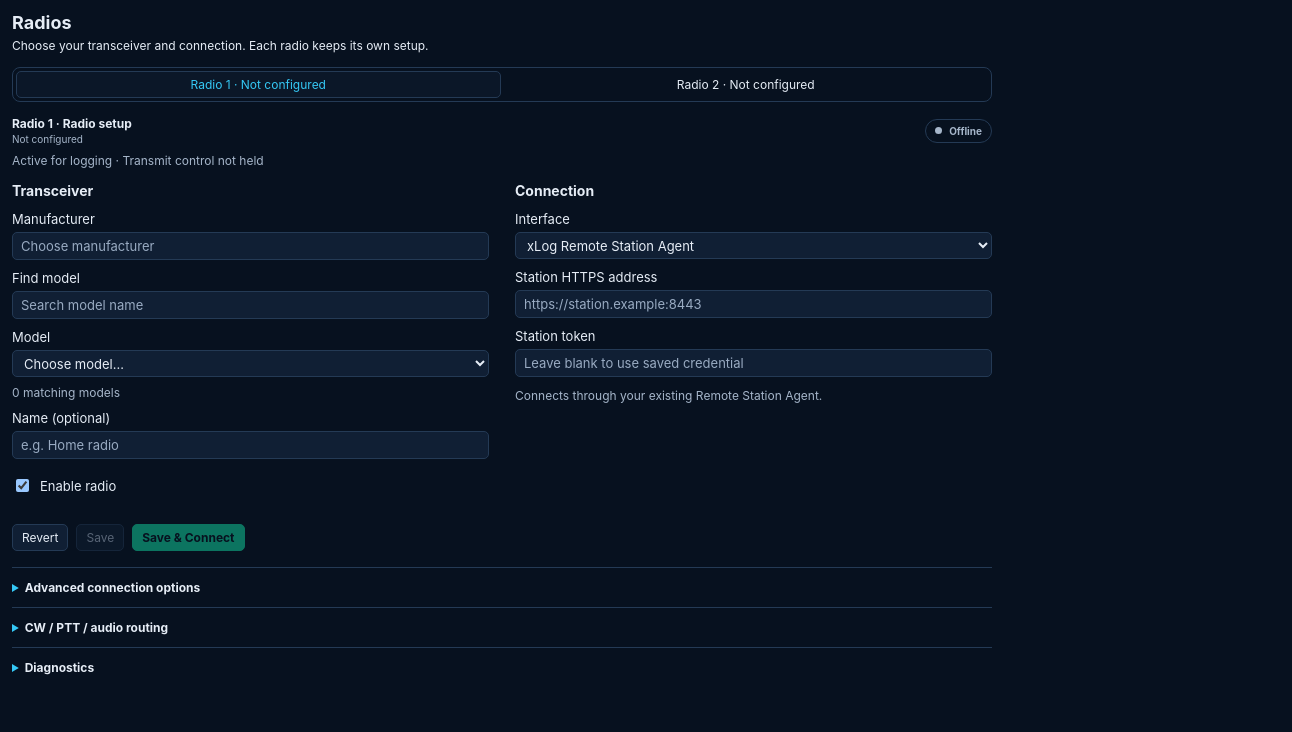
Test: updates delayed native connection observations without focus, lifecycle writes or losing typed text
Type "Still typing" into the field named "Radio nickname" at (250, 445), box [12,431,489,459]
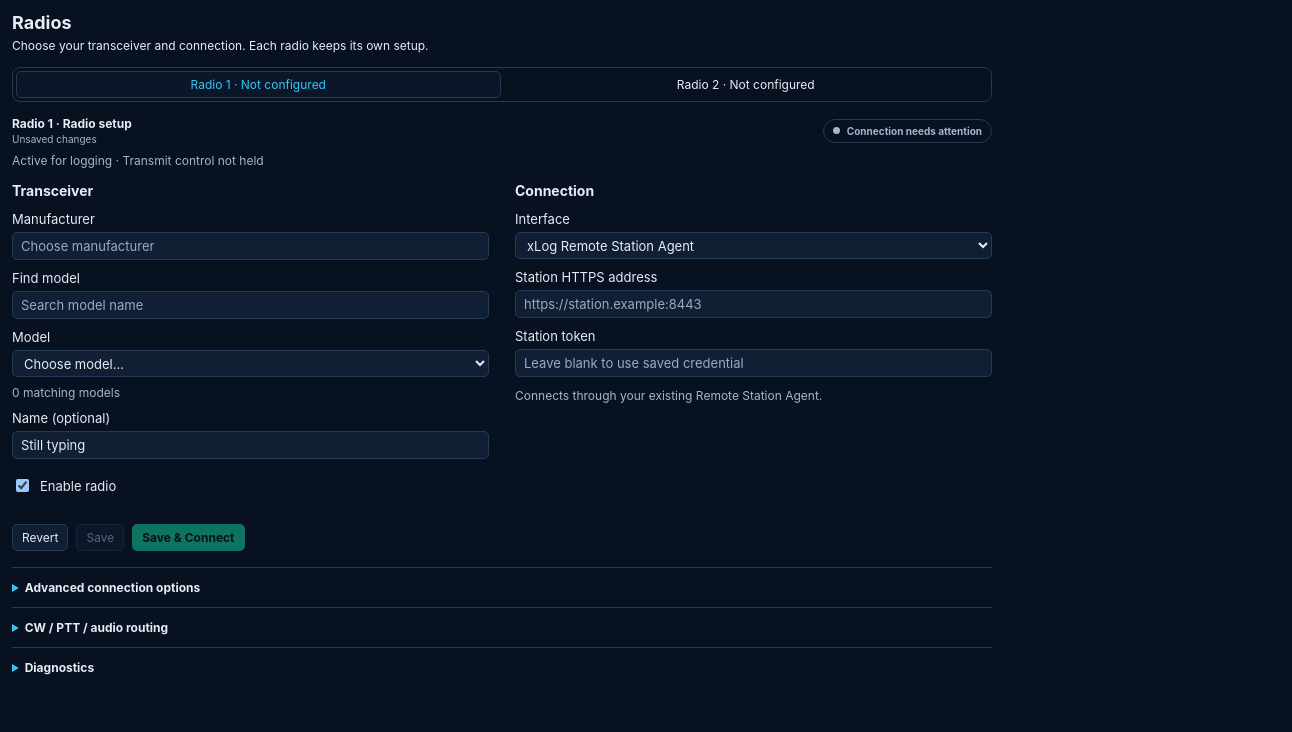
Expected: the text "Connection needs attention" is shown, [823,118,992,142]
